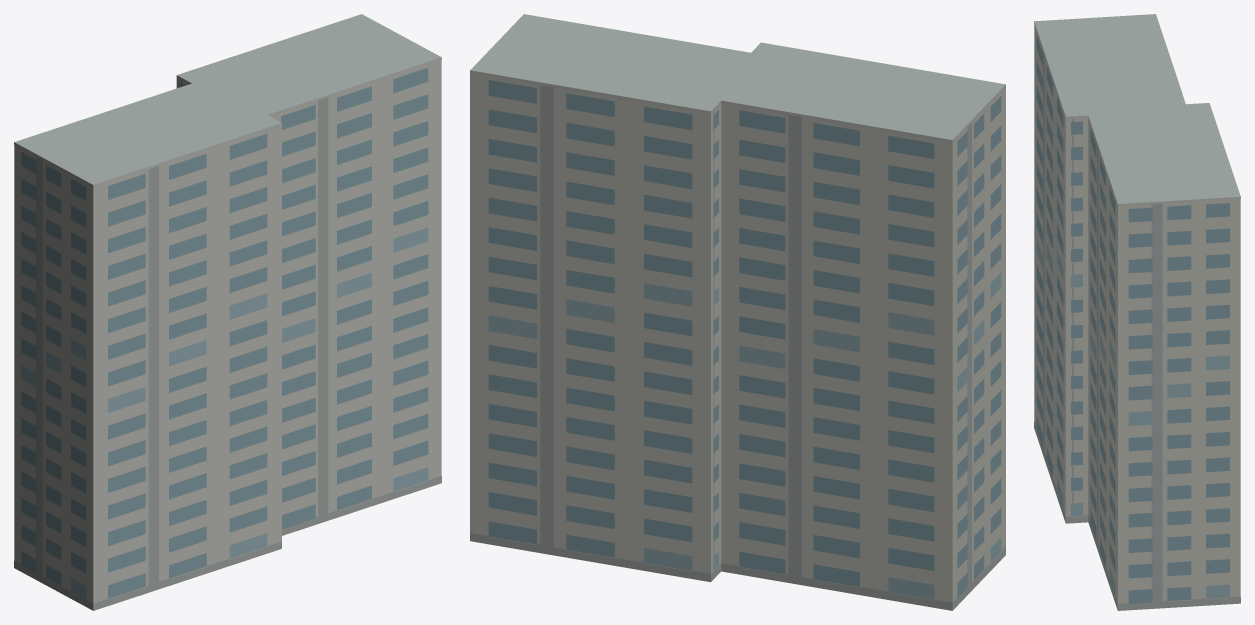
File: residential-ac10fd7a-466e-49d1-a7da-b90200294b9a.glb
3 views of the same model, side by side, from view 1: azimuth 30°, elevation 25°; view 2: azimuth 150°, elevation 25°; view 3: azimuth 270°, elevation 25° (orthographic). The views are drawn at different scales.
Parts seen in each view (by area): view 1: residential-ac10fd7a-466e-49d1-a7da-b90200294b9a.tmp; view 2: residential-ac10fd7a-466e-49d1-a7da-b90200294b9a.tmp; view 3: residential-ac10fd7a-466e-49d1-a7da-b90200294b9a.tmp.
Boxes of the visible parts, bbox=[...] form: residential-ac10fd7a-466e-49d1-a7da-b90200294b9a.tmp: bbox=[14, 14, 441, 610]; residential-ac10fd7a-466e-49d1-a7da-b90200294b9a.tmp: bbox=[470, 14, 1005, 610]; residential-ac10fd7a-466e-49d1-a7da-b90200294b9a.tmp: bbox=[1034, 14, 1240, 610].
Bounding box in the file's own units: 43.08 × 43 × 19.8.
